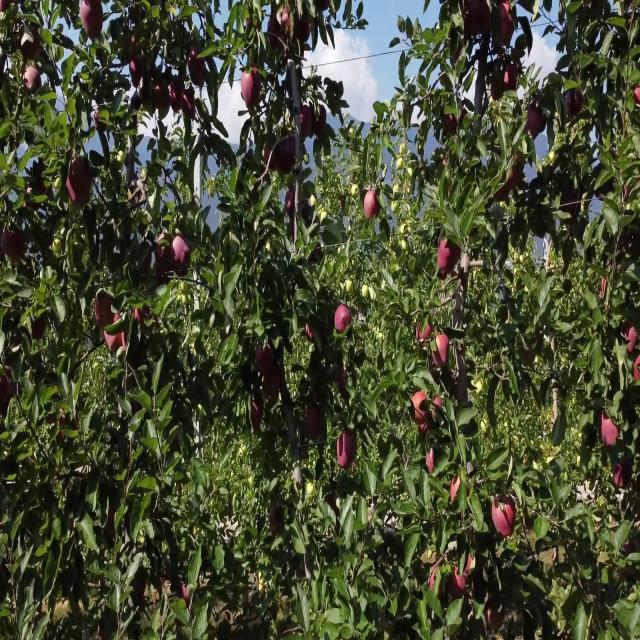apple: (68, 156, 93, 208), (492, 497, 516, 539), (80, 1, 104, 43), (464, 0, 491, 37), (452, 554, 473, 597), (496, 7, 516, 50), (4, 227, 27, 263), (244, 71, 264, 112), (96, 291, 116, 331), (412, 391, 430, 434), (188, 49, 208, 87), (304, 405, 324, 441), (600, 412, 620, 448), (292, 7, 312, 43), (108, 319, 128, 354), (440, 241, 462, 272), (172, 234, 192, 268), (528, 106, 547, 140), (156, 234, 172, 274), (264, 369, 283, 402), (432, 334, 449, 368), (340, 362, 356, 398), (452, 561, 468, 597), (476, 1, 492, 36), (24, 35, 43, 64), (460, 554, 473, 596), (256, 348, 275, 375), (364, 191, 381, 220), (452, 476, 470, 503), (336, 305, 352, 334), (504, 63, 520, 92), (488, 604, 504, 633), (624, 327, 640, 356), (52, 412, 68, 441), (24, 63, 40, 91), (300, 106, 313, 140), (264, 142, 279, 171), (4, 369, 15, 407), (564, 191, 578, 220), (568, 92, 584, 117), (316, 106, 328, 139), (252, 398, 263, 434), (140, 241, 152, 274), (416, 319, 432, 343), (284, 135, 296, 167), (132, 56, 145, 85), (156, 85, 169, 114), (444, 113, 458, 139), (340, 447, 356, 469), (268, 21, 281, 48), (280, 7, 292, 36), (172, 85, 184, 114), (272, 504, 283, 535), (32, 319, 47, 341), (508, 170, 523, 192), (136, 305, 151, 327), (280, 156, 295, 178), (184, 92, 196, 119), (452, 35, 463, 64), (616, 462, 626, 491), (268, 149, 281, 171), (108, 504, 118, 532), (496, 184, 510, 204), (492, 78, 504, 101), (156, 85, 168, 108), (428, 447, 436, 476), (432, 568, 439, 596), (524, 348, 536, 364), (436, 398, 444, 418), (328, 497, 338, 512), (308, 321, 315, 341), (440, 270, 449, 283), (184, 583, 189, 603), (636, 362, 640, 384), (636, 85, 640, 107), (604, 277, 608, 293)
